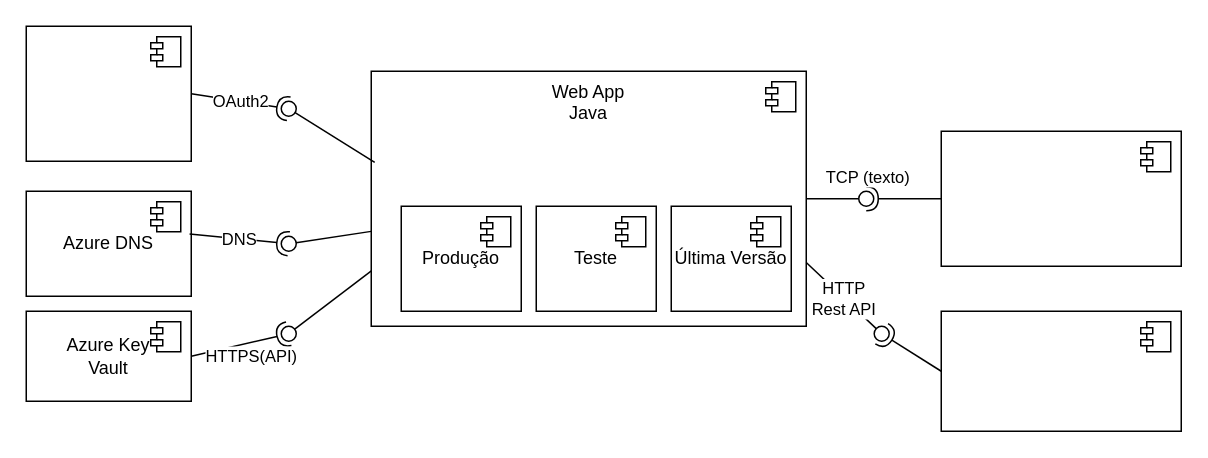
Image size: 1208x458. Some labels were removed from this diagram. The centre of each missing label's shape, as x and y in pixels:
"Azure Active Directory (Azure Entra ID)" belongs at point (108, 93).
"Azure Monitor" belongs at point (1060, 370).
"Banco de Dados SQLServer" belongs at point (1060, 198).
